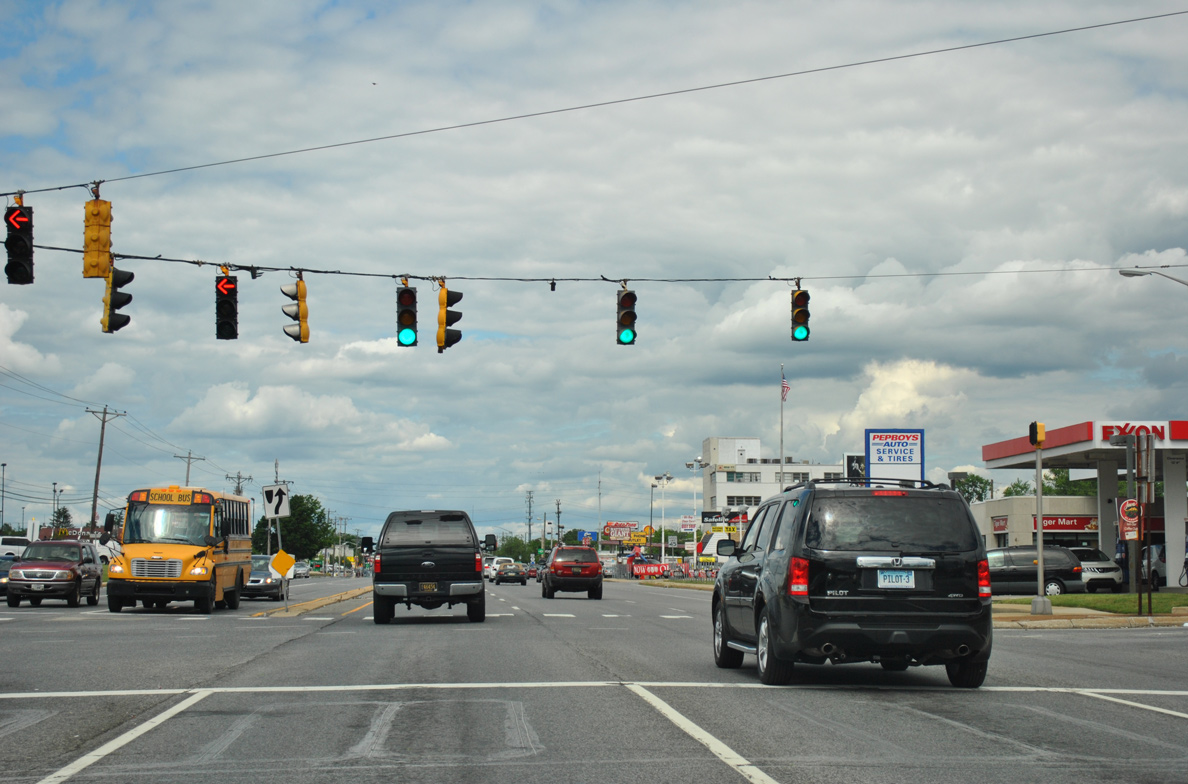traffic_light: (2, 204, 37, 287), (213, 274, 240, 341), (395, 285, 419, 348), (614, 288, 639, 347), (790, 288, 812, 343)
